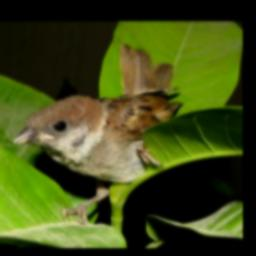Sparrow: (9, 43, 186, 226)
